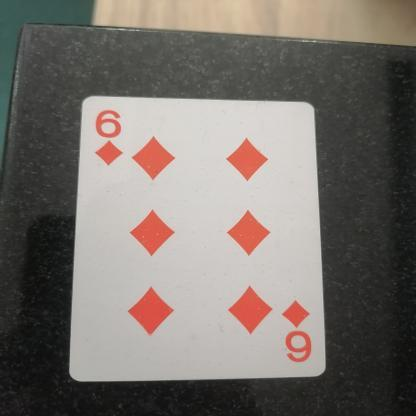6D: (272, 294, 328, 375), (85, 106, 135, 170)
